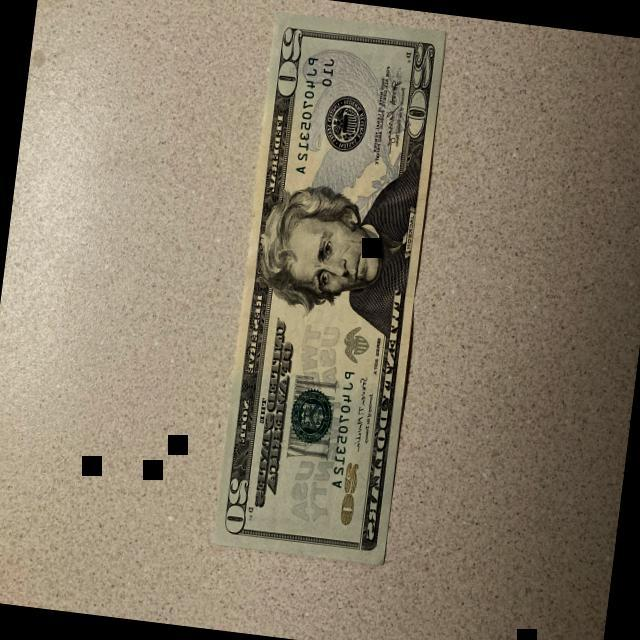twenty: (212, 9, 450, 566)
